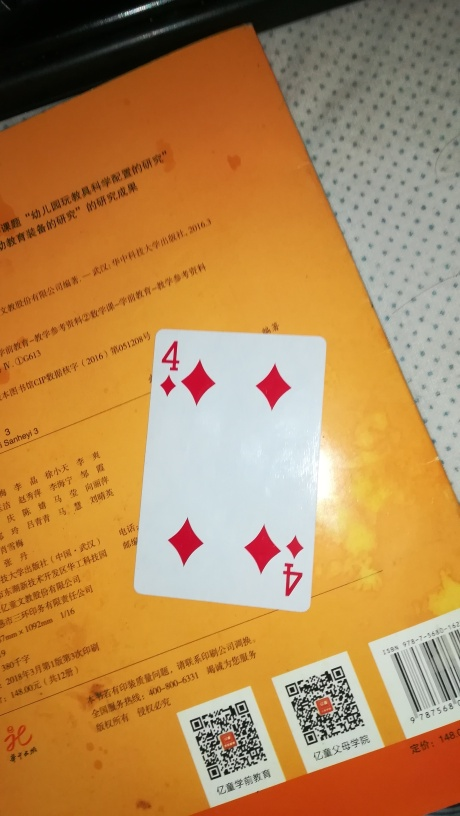fk 4: (130, 323, 327, 616)
